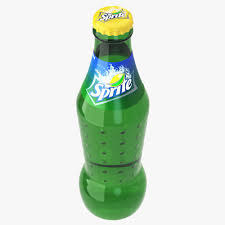sprite_bottle: (77, 7, 147, 221)
